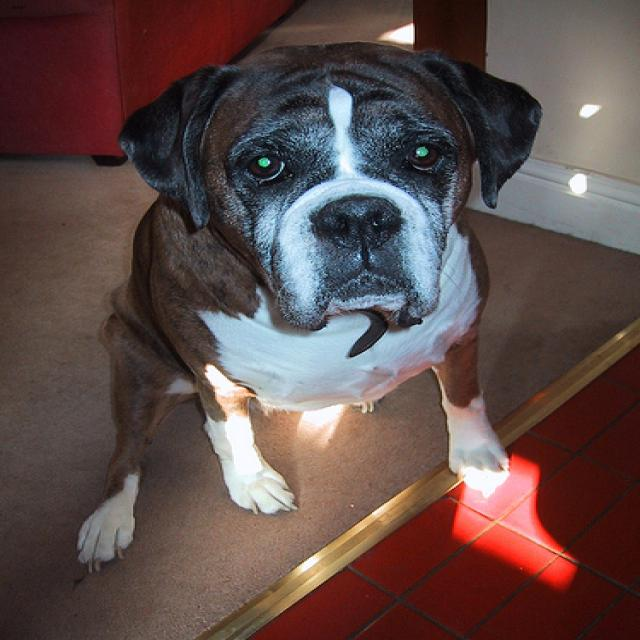dog-boxer: (55, 26, 560, 576)
